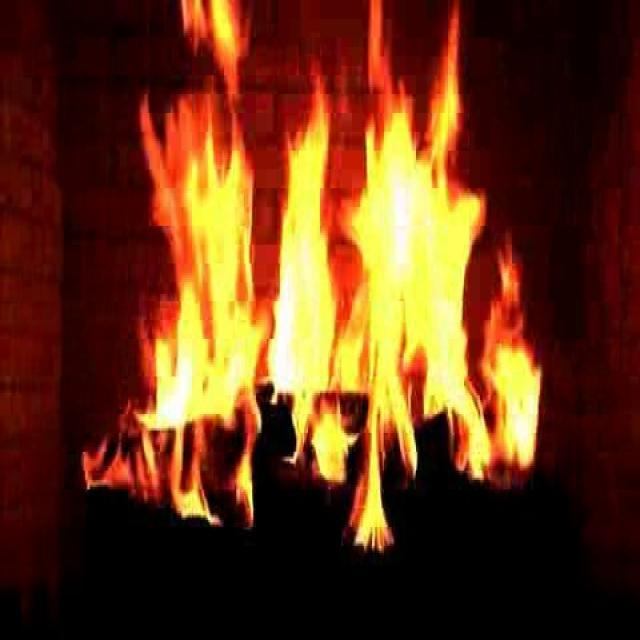Fire: (130, 21, 543, 532)
